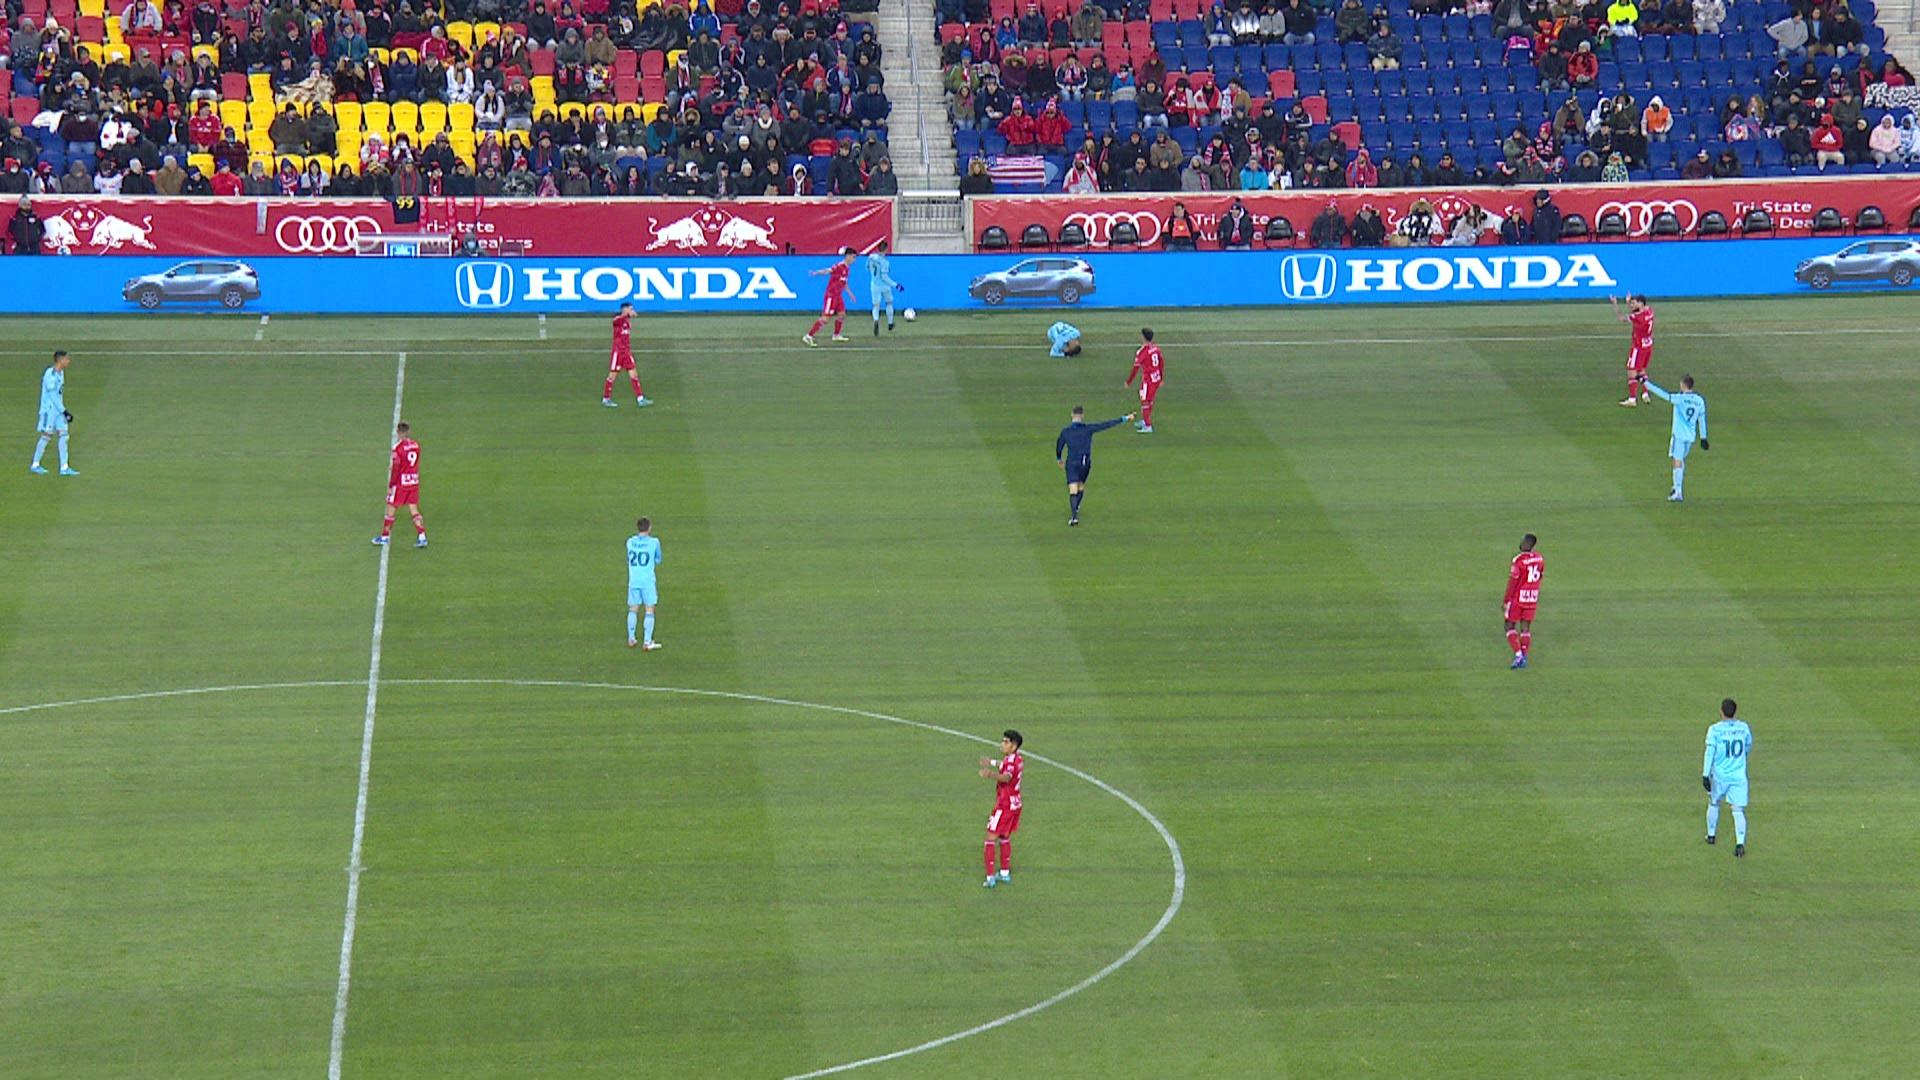football: (906, 310, 915, 320)
